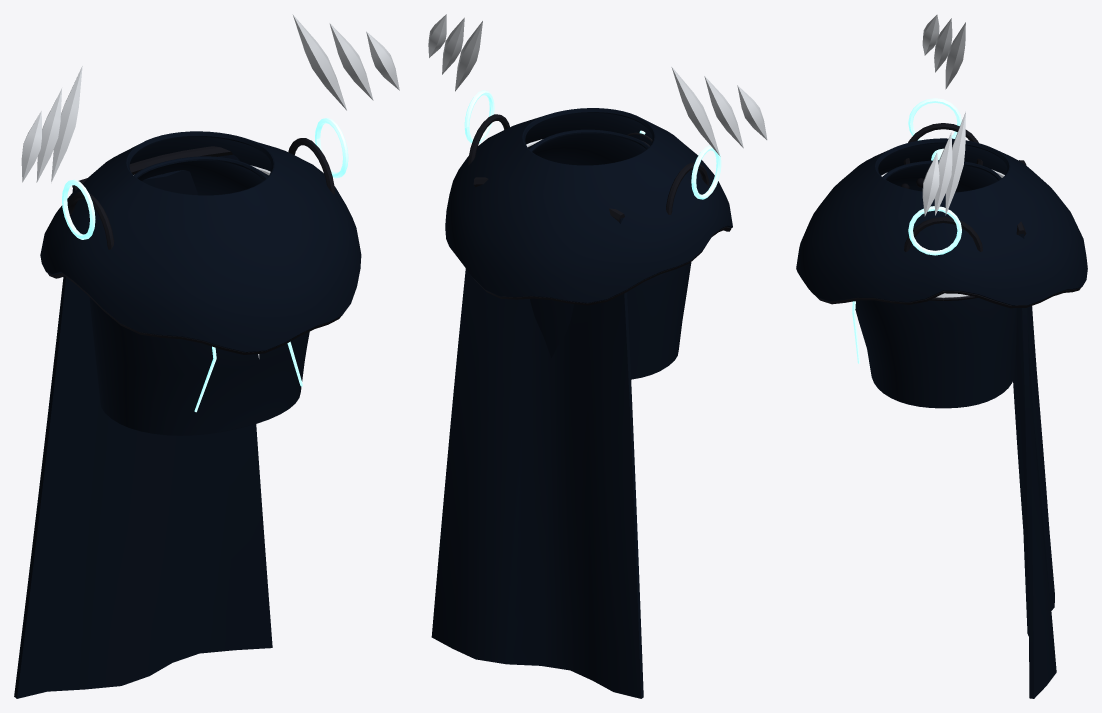
The model's file is esc_null_choir_armor.glb.
3 views of the same model, side by side, from view 1: azimuth 30°, elevation 25°; view 2: azimuth 150°, elevation 25°; view 3: azimuth 270°, elevation 25° (orthographic). The views are drawn at different scales.
Parts seen in each view (by area): view 1: esc_null_choir_armor; view 2: esc_null_choir_armor; view 3: esc_null_choir_armor.
Boxes of the visible parts, box(x1,y1,x2,y2) form: esc_null_choir_armor: box(14, 14, 399, 698); esc_null_choir_armor: box(428, 14, 767, 698); esc_null_choir_armor: box(796, 14, 1087, 698).
Size of the model in its own units: 0.9251 by 1.56 by 0.7093.
